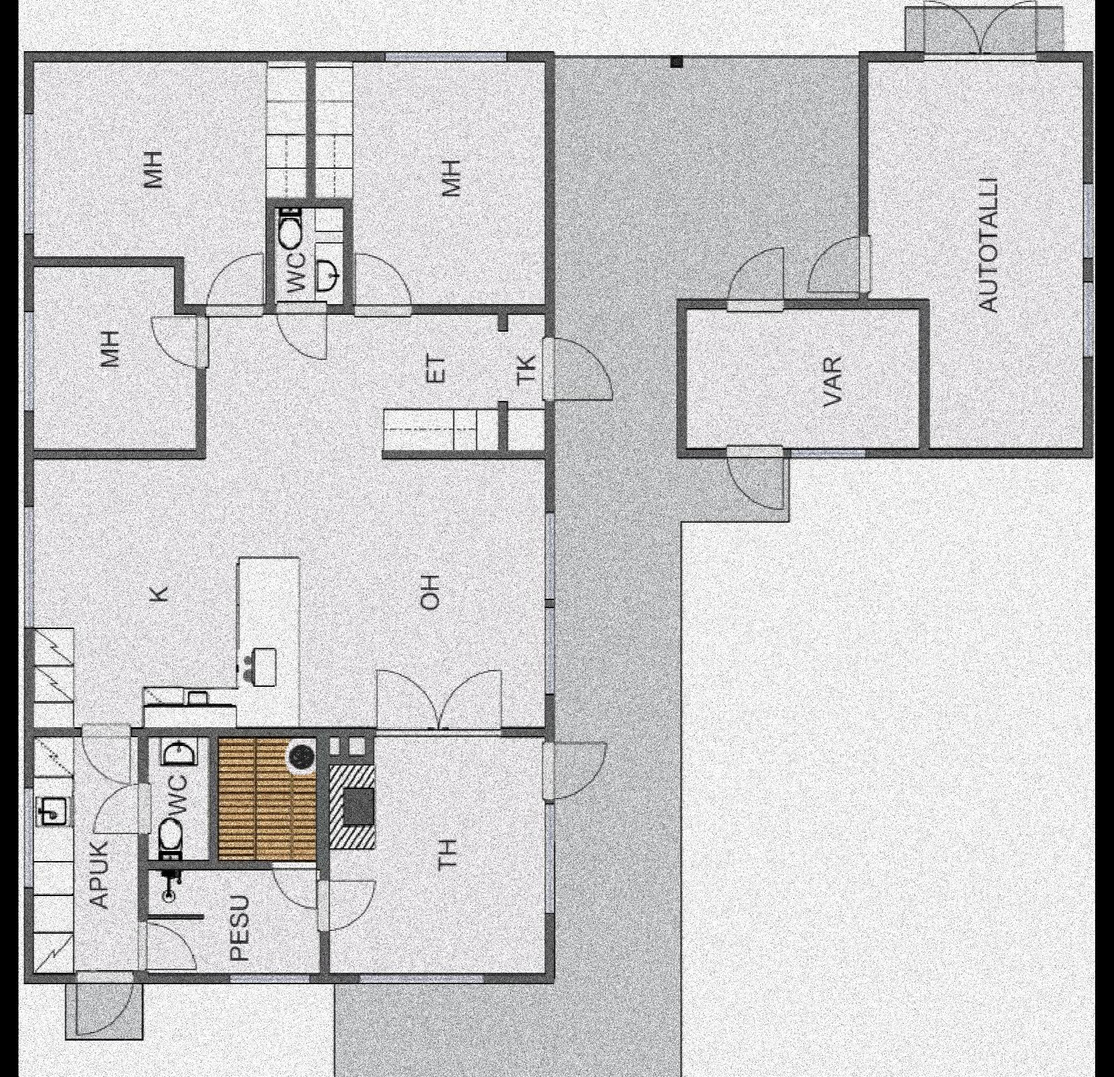door: (374, 660, 507, 740), (924, 0, 1043, 64), (726, 226, 793, 317), (538, 332, 617, 401), (722, 440, 792, 516), (76, 719, 144, 789), (806, 230, 878, 294), (541, 736, 609, 800), (202, 251, 264, 319), (271, 298, 338, 360), (76, 967, 133, 1036), (355, 248, 413, 315), (93, 775, 154, 837), (321, 871, 380, 935), (138, 921, 202, 973), (148, 319, 212, 363), (276, 857, 320, 911)
window: (384, 45, 506, 68), (21, 506, 38, 629), (21, 790, 41, 888), (540, 517, 561, 602), (22, 315, 37, 414), (544, 806, 557, 918), (1078, 184, 1096, 257), (543, 611, 558, 695), (25, 119, 36, 233), (1078, 283, 1095, 354), (230, 973, 305, 987), (788, 446, 858, 461), (361, 976, 484, 982)
zone: (332, 53, 858, 1077), (33, 317, 542, 729), (861, 62, 1085, 454), (30, 63, 263, 312), (321, 63, 548, 301), (325, 738, 540, 974), (686, 307, 915, 452), (29, 263, 197, 447), (33, 738, 141, 969), (144, 867, 319, 974), (215, 739, 314, 862), (142, 739, 203, 865), (269, 206, 343, 301)
